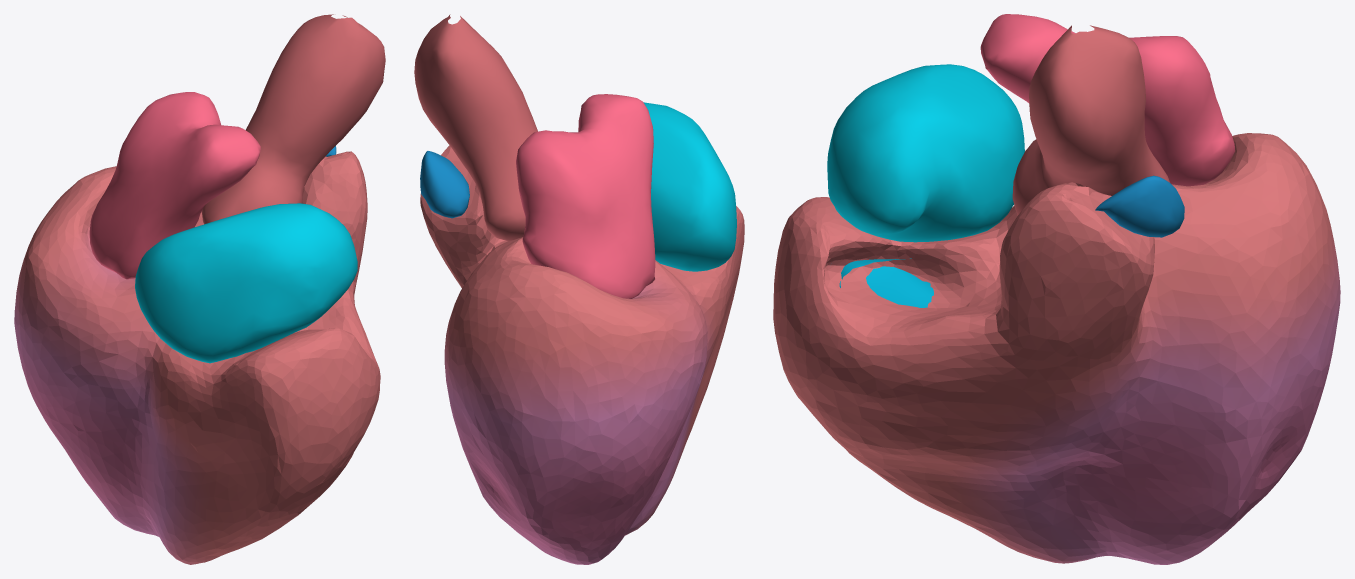
File: frame_48.glb
3 renders of one model, left to right at view 1: azimuth 30°, elevation 25°; view 2: azimuth 150°, elevation 25°; view 3: azimuth 270°, elevation 25°, orthographic. The views are drawn at different scales.
Parts seen in each view (by area): view 1: Renderer Node; view 2: Renderer Node; view 3: Renderer Node.
Boxes of the visible parts, x1,y1,x2,y2 form: Renderer Node: [14, 14, 385, 564]; Renderer Node: [414, 14, 744, 564]; Renderer Node: [773, 14, 1340, 564].
Size of the model in its own units: 103 by 158 by 128.
